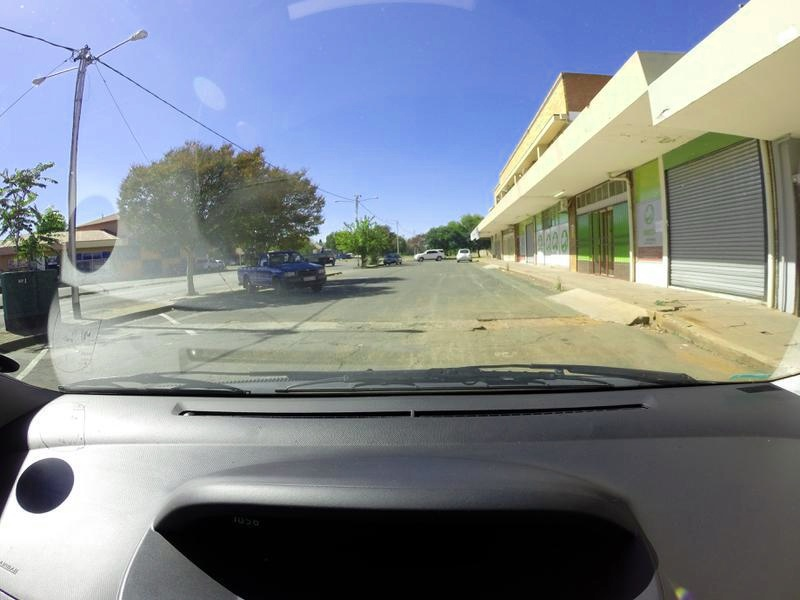pothole: (481, 316, 603, 328)
